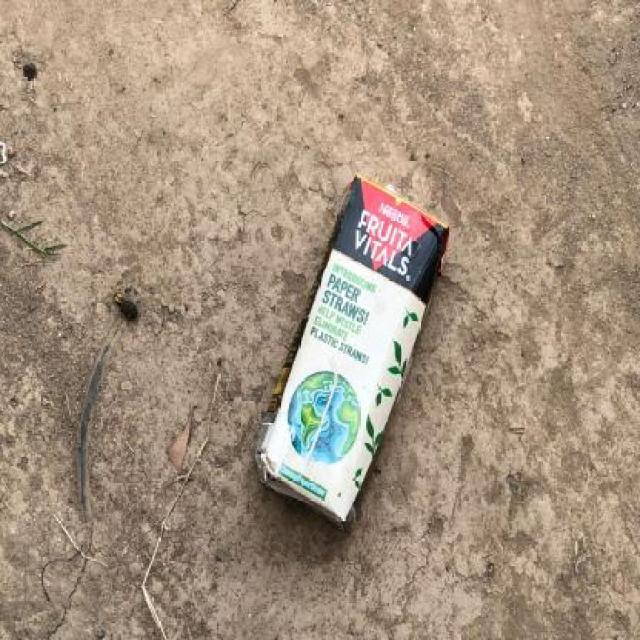garbage: (254, 165, 479, 540)
